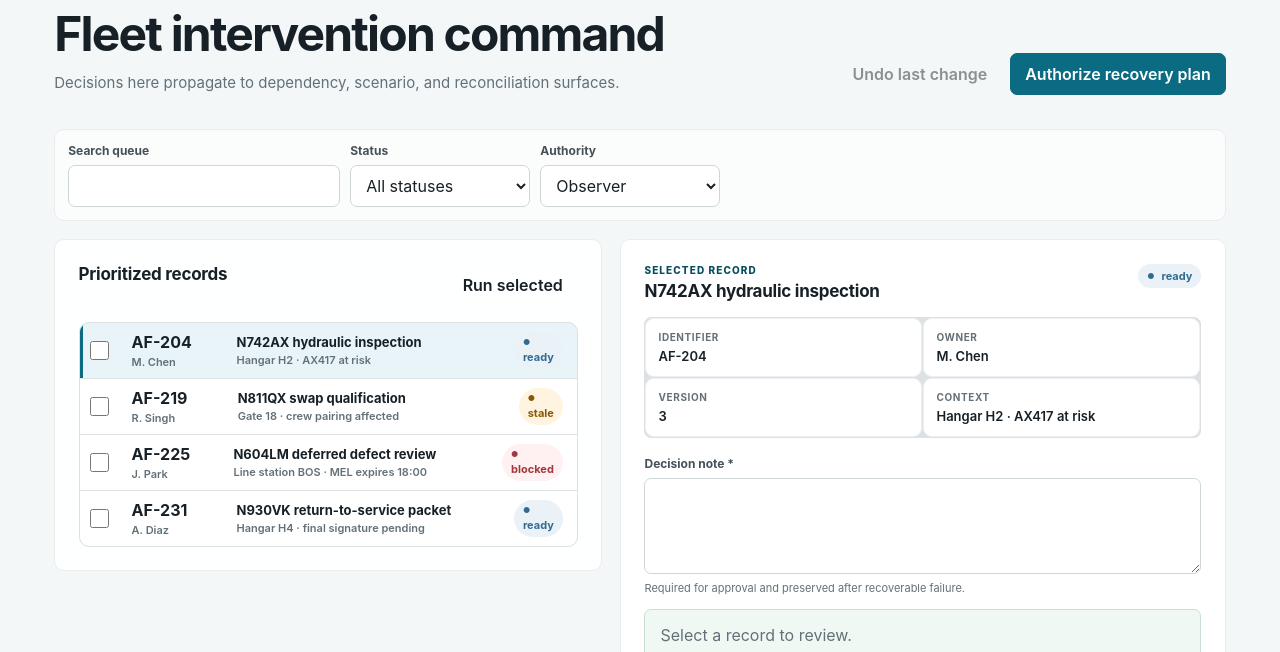
Fleet intervention command › enforces authority and validates the explanation
Click the button "Authorize recovery plan": x=1118, y=74 1010,54 -> 1226,96
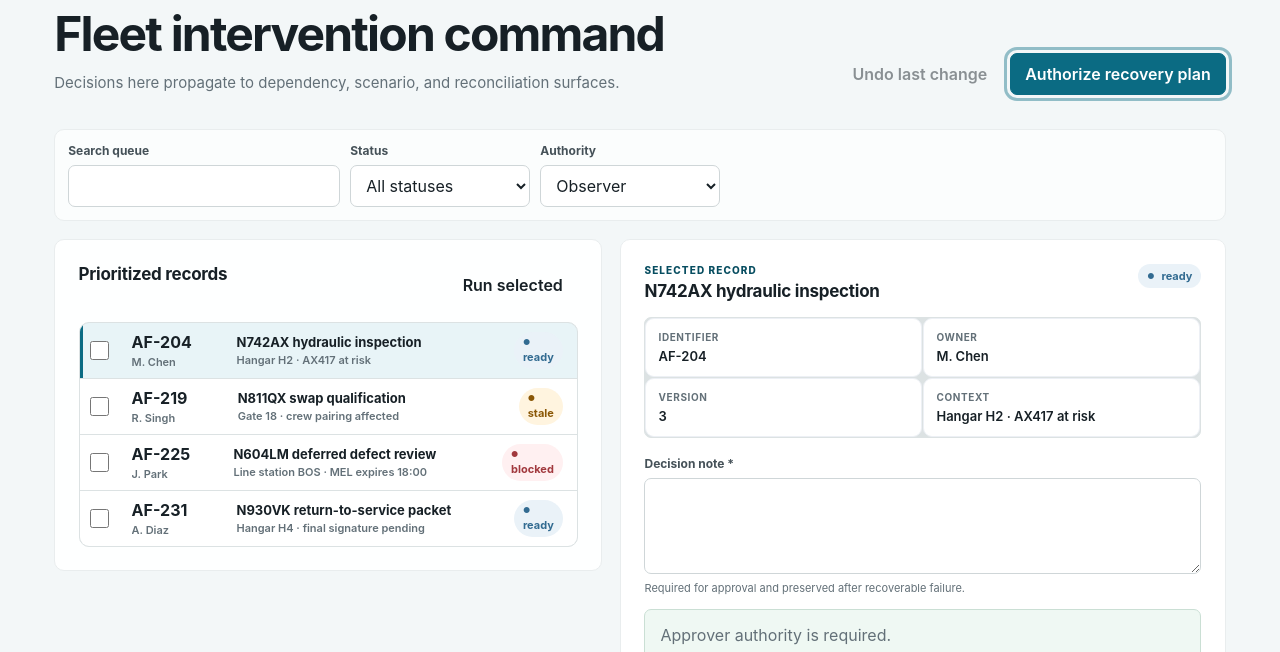
Expected: the message shows "Approver authority", 660,625 -> 891,645
Select "Approver" in the dropdown labelled "Authority": x=630, y=186 540,166 -> 720,208
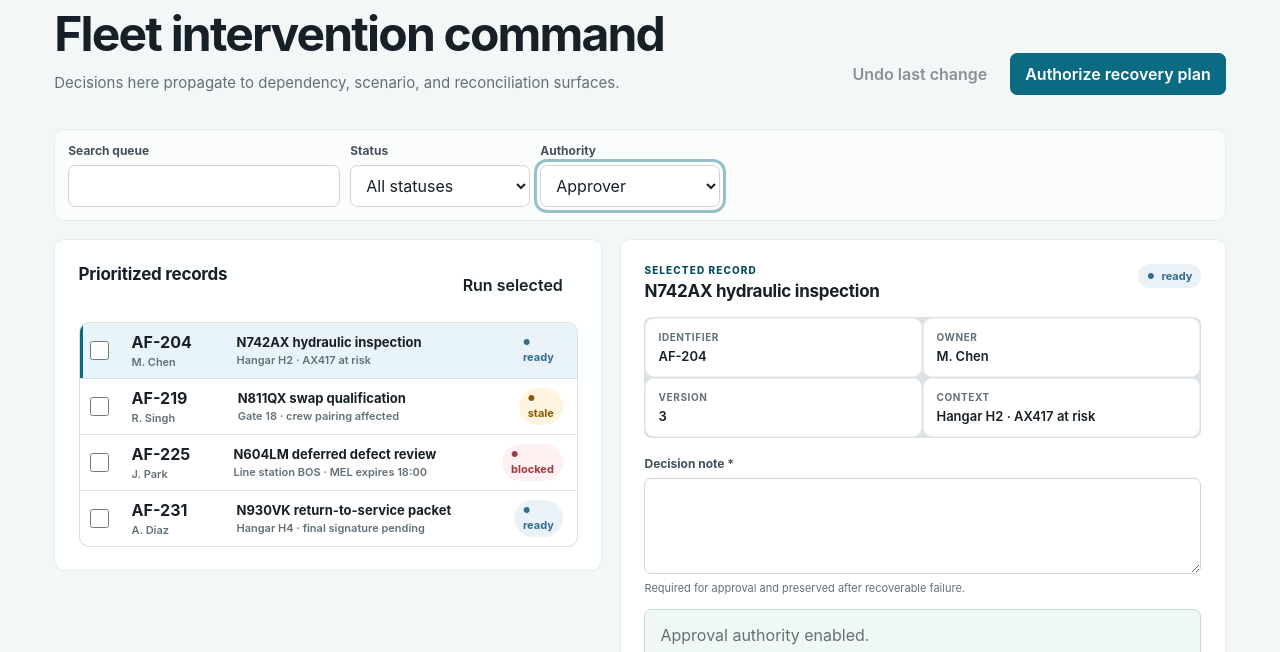
In the text box labelled "Decision note": x=923, y=526 644,478 -> 1201,574, type "short"
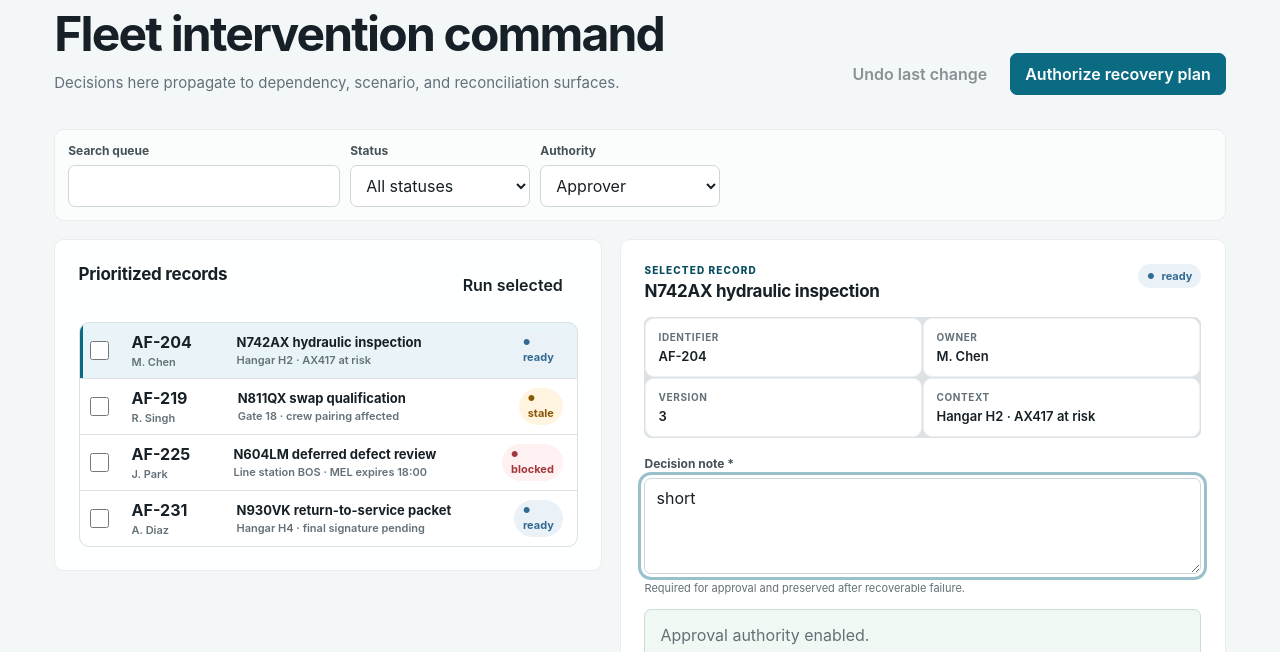
Click the button "Authorize recovery plan": x=1118, y=74 1010,54 -> 1226,96
(page scrolled)
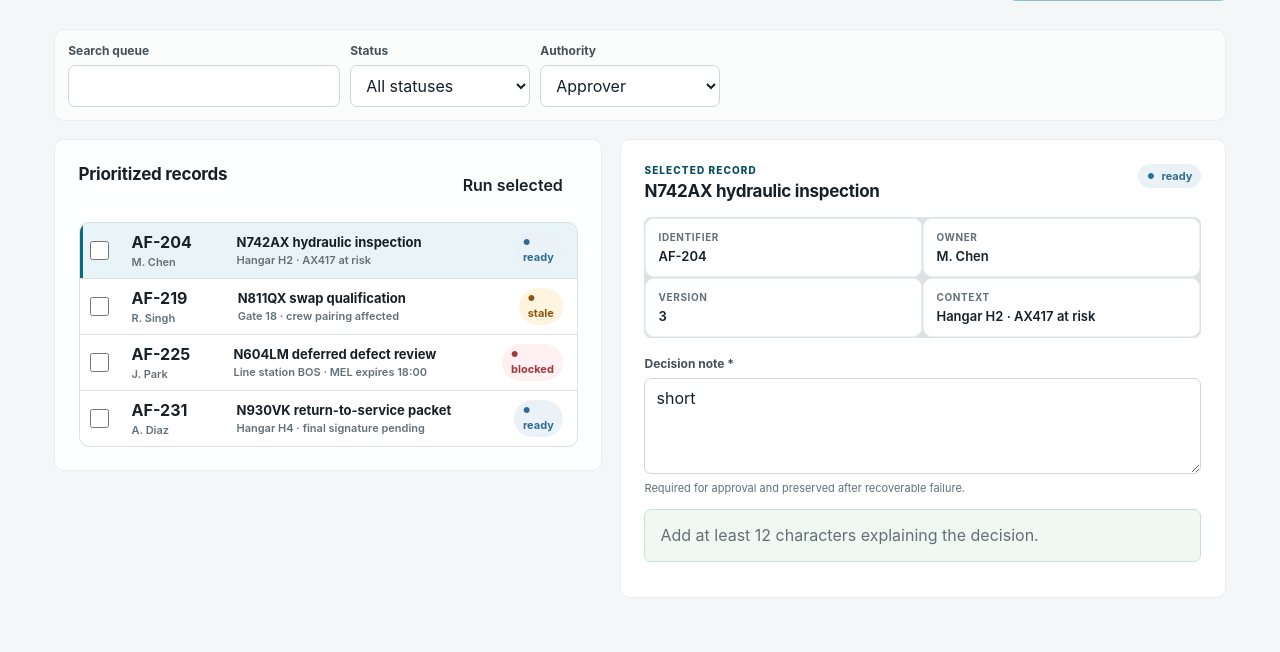
Expected: the message shows "12 characters", 660,525 -> 1039,545
